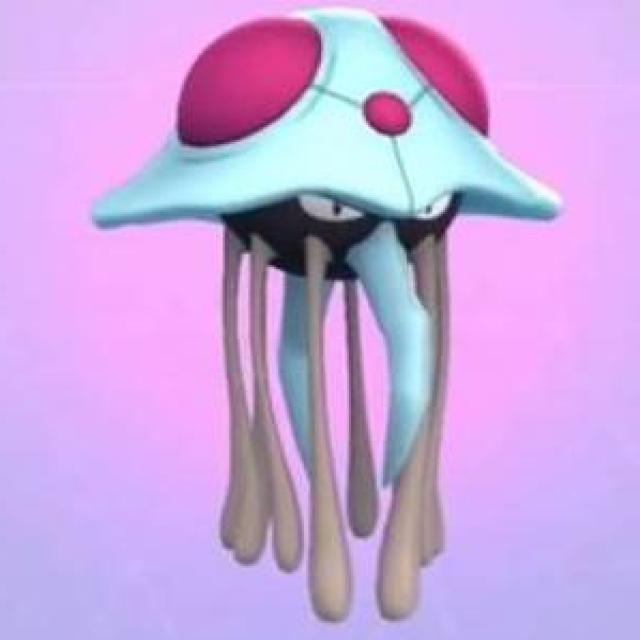Tentacruel: (171, 17, 499, 478)
